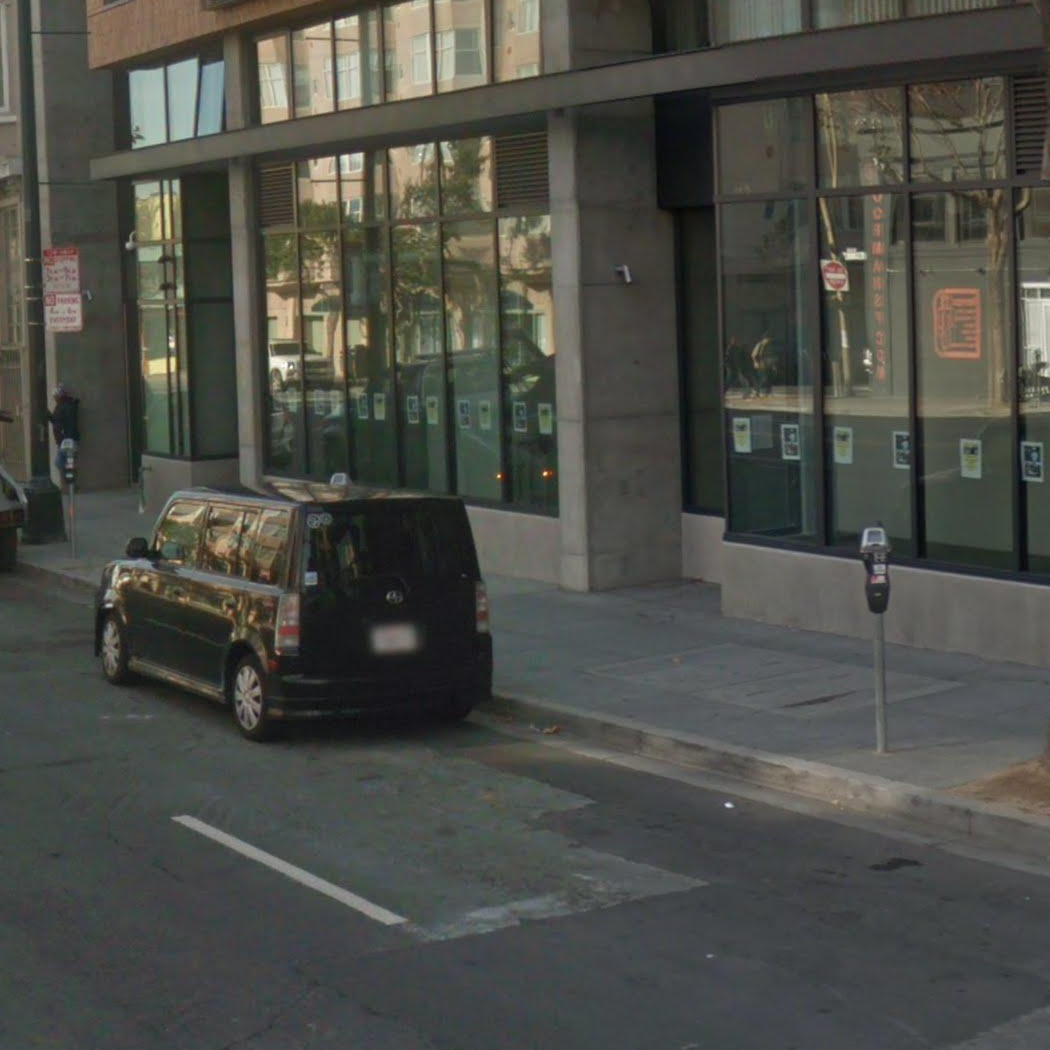No Parking: (42, 293, 84, 333)
